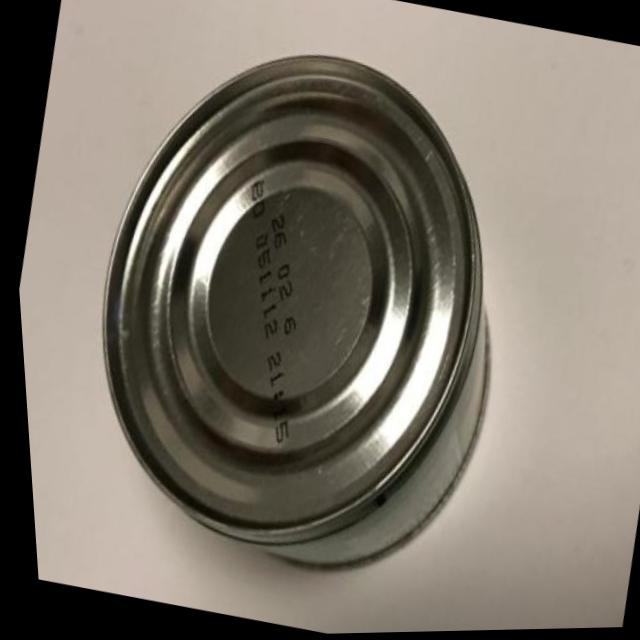metal: (22, 0, 639, 631)
